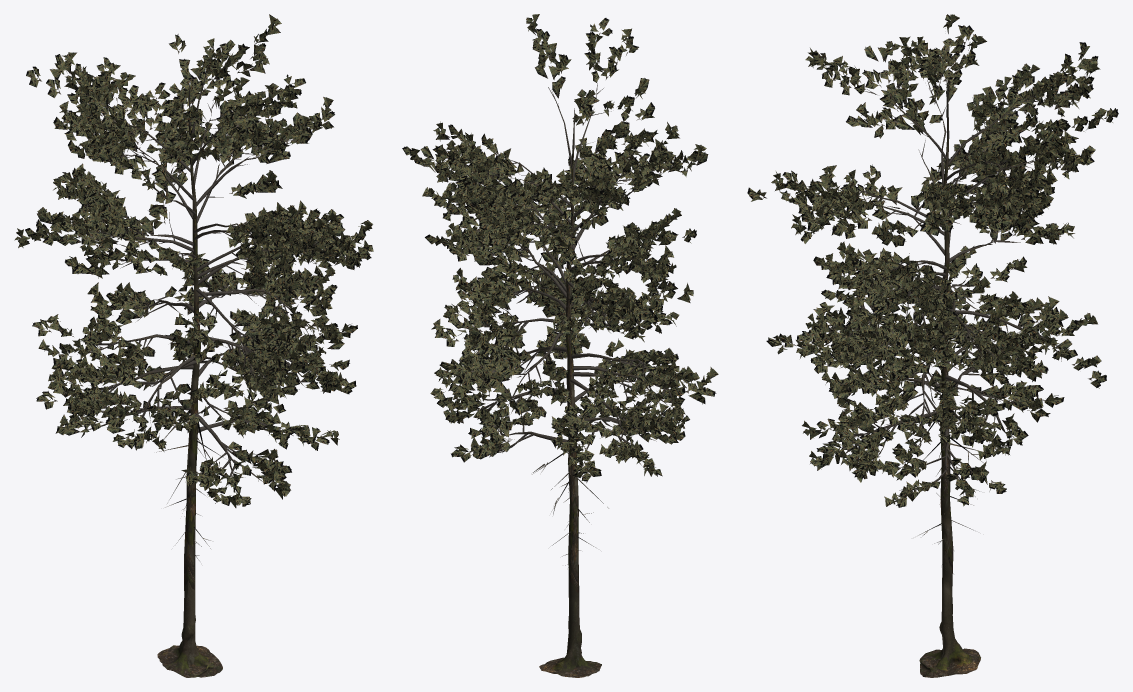
Rendered from pine-tree-b-lod.glb.
3 renders of one model, left to right at view 1: azimuth 30°, elevation 25°; view 2: azimuth 150°, elevation 25°; view 3: azimuth 270°, elevation 25°, orthographic. The views are drawn at different scales.
Visible parts, largest first — view 1: Pine needles, Pine bark, Pine trunk; view 2: Pine needles, Pine bark, Pine trunk; view 3: Pine needles, Pine bark, Pine trunk.
Part boxes in pixels (x1=…): Pine needles: x1=14, y1=14, x2=373, y2=507; Pine bark: x1=73, y1=57, x2=314, y2=486; Pine trunk: x1=157, y1=125, x2=222, y2=677; Pine needles: x1=402, y1=14, x2=718, y2=482; Pine bark: x1=475, y1=81, x2=673, y2=465; Pine trunk: x1=539, y1=143, x2=601, y2=677; Pine needles: x1=747, y1=14, x2=1118, y2=507; Pine bark: x1=824, y1=68, x2=1061, y2=481; Pine trunk: x1=919, y1=138, x2=980, y2=677.
Bounding box in the file's own units: 7.22 × 14.87 × 7.55.
Materials: 4 (4 with a texture image).
